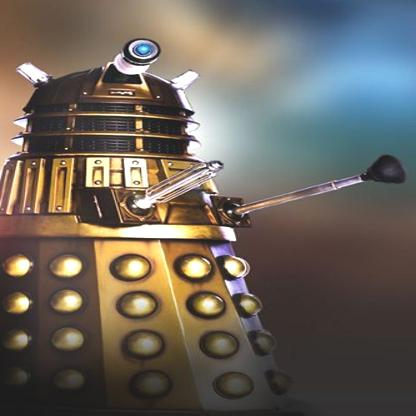dalek: (0, 2, 415, 416)
